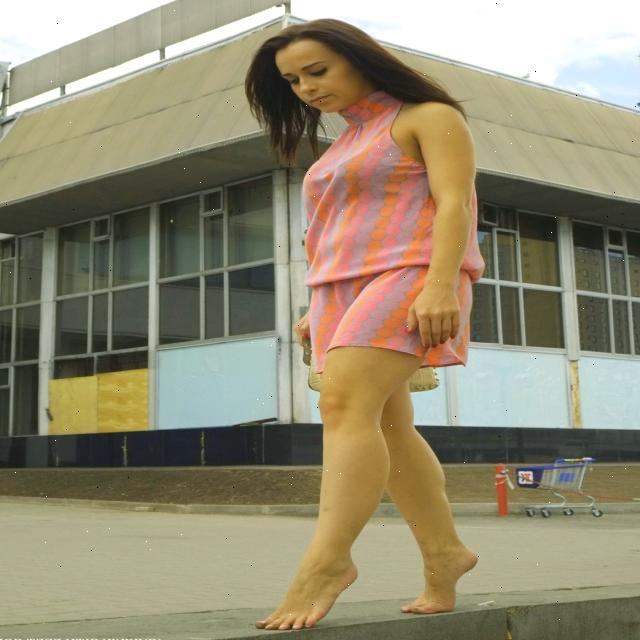No Safety Boots: (254, 558, 358, 630), (401, 544, 478, 614)
